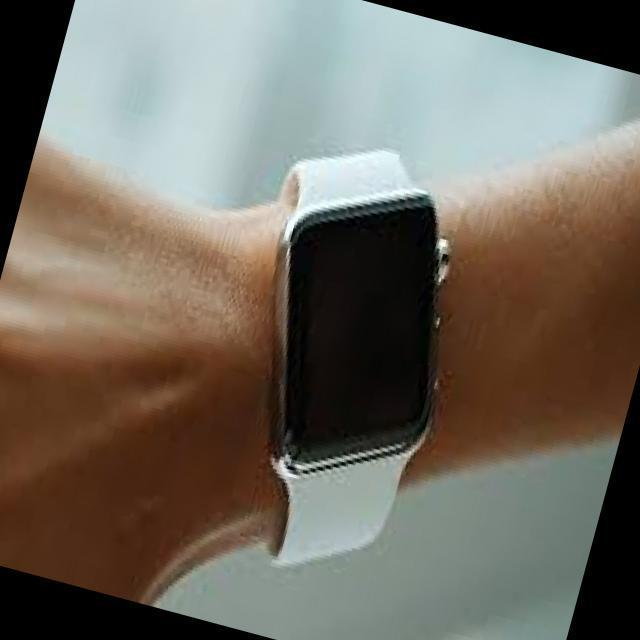Watch: (273, 152, 449, 560)
